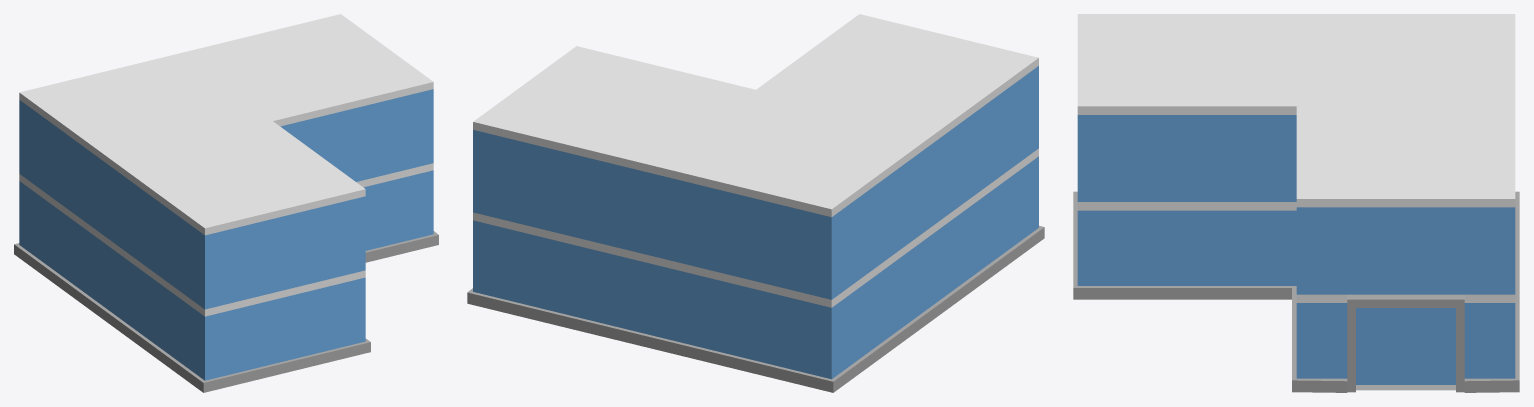
The model's file is building_L_7_g.glb.
3 renders of one model, left to right at view 1: azimuth 30°, elevation 25°; view 2: azimuth 150°, elevation 25°; view 3: azimuth 270°, elevation 25°, orthographic. The views are drawn at different scales.
Parts seen in each view (by area): view 1: Cube; view 2: Cube; view 3: Cube.
Boxes of the visible parts, x1=… form: Cube: x1=14, y1=14, x2=438, y2=392; Cube: x1=467, y1=14, x2=1044, y2=392; Cube: x1=1073, y1=14, x2=1519, y2=392.
Bounding box in the file's own units: 3.44 × 1.6 × 3.38.
